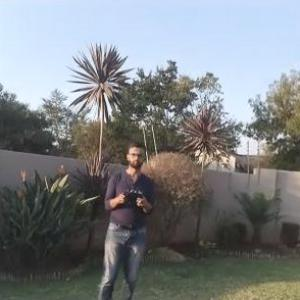follow: (95, 139, 156, 299)
